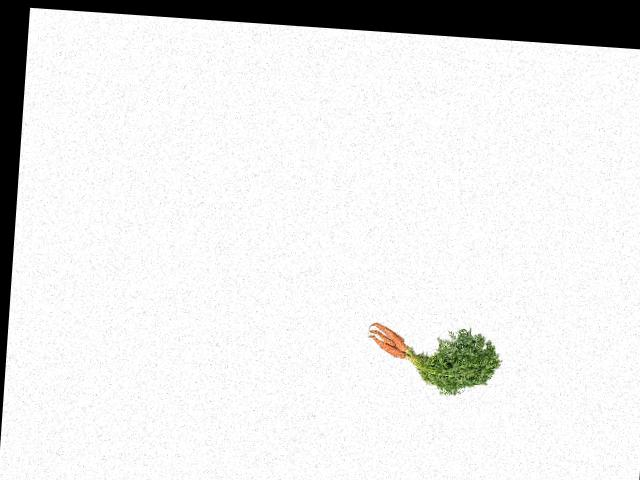carrot: (374, 322, 411, 351)
